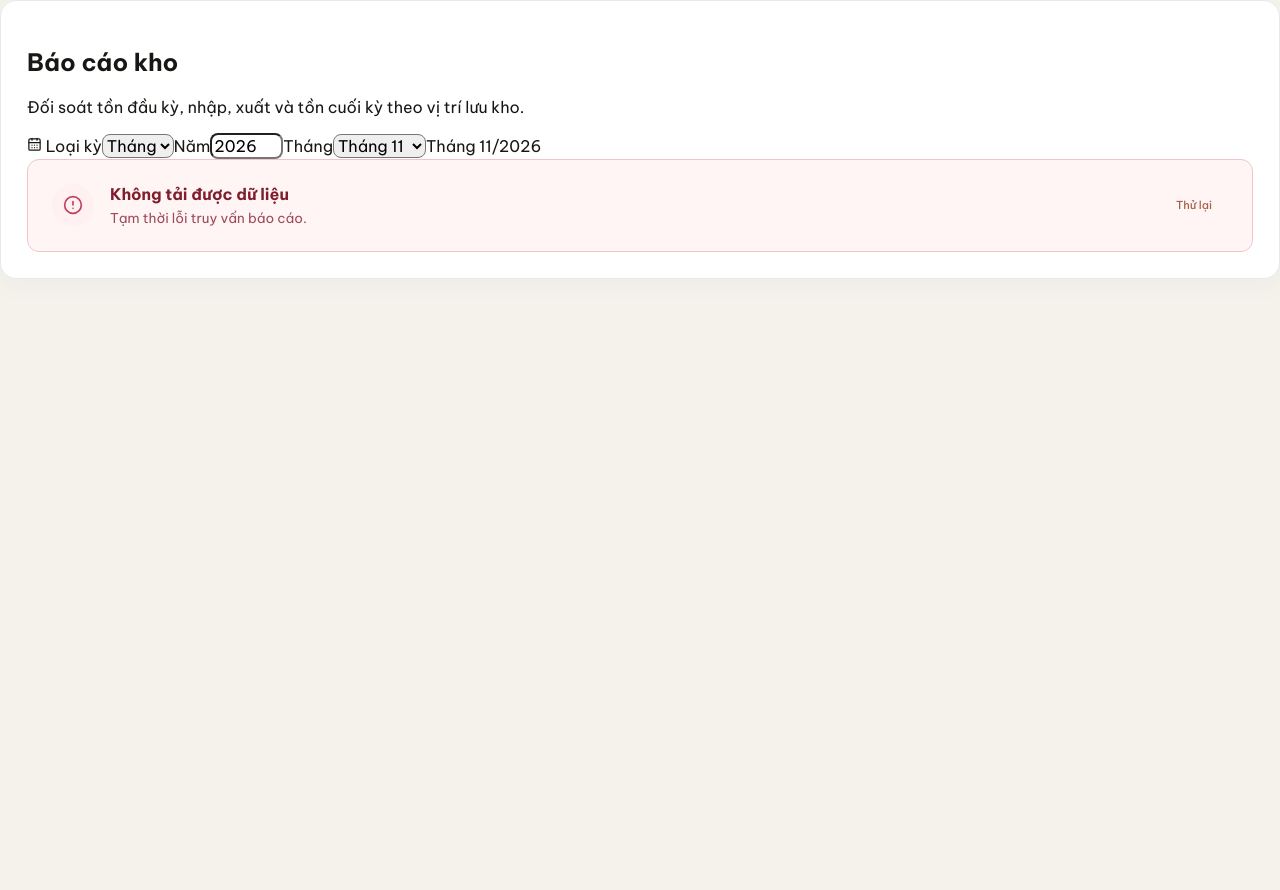
Test: discloses the inventory history cutover and offers retry after a report failure
The width and height of the screenshot is (1280, 890).
Expected: the text "Tạm thời lỗi truy vấn báo cáo." is shown, top-left (110, 209), bottom-right (307, 227)
Click the button "Thử lại": (1194, 205) top-left (1170, 197), bottom-right (1218, 213)
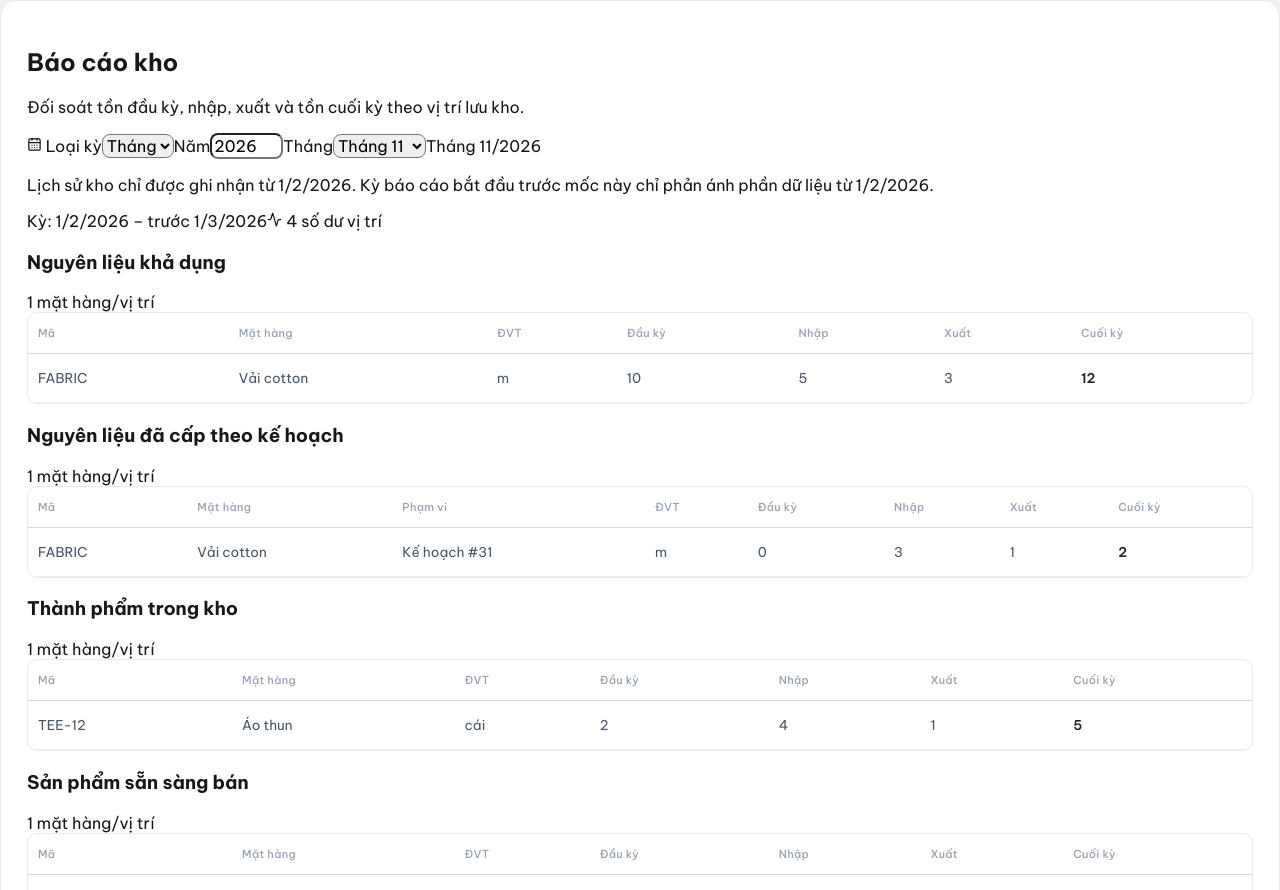
Expected: the text "Lịch sử kho chỉ được ghi nhận từ" is shown, top-left (27, 175), bottom-right (278, 195)
